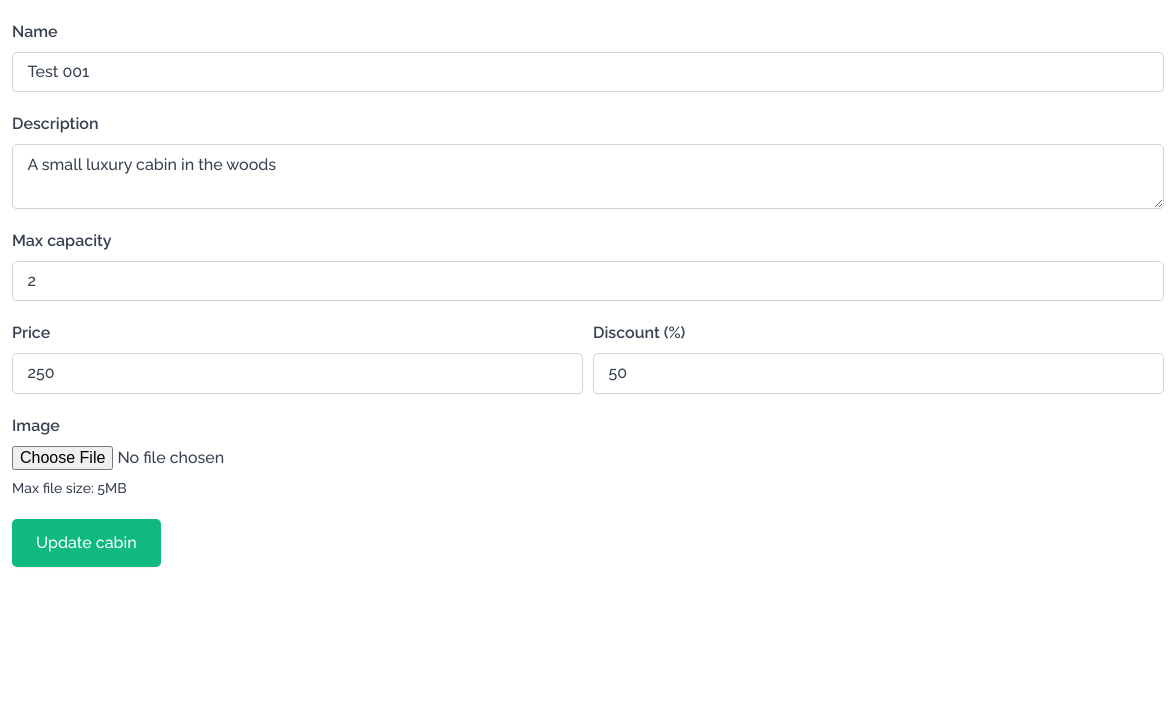
Test case: UpdateCabinForm › should show an error message if max capacity value is less than 1
This screenshot has width=1176, height=720.
Clear the number field labelled "Max capacity" at (588, 281), box [12, 261, 1164, 301]
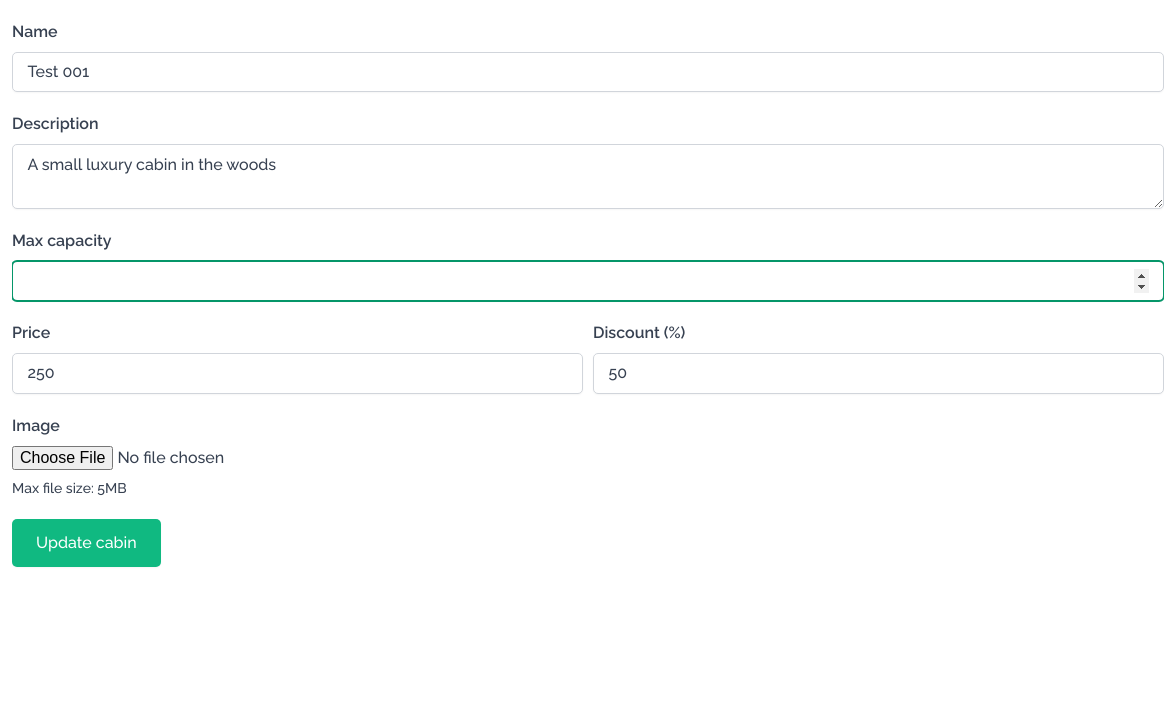
Click the button "Update cabin".
click(86, 542)  # box [12, 518, 161, 566]
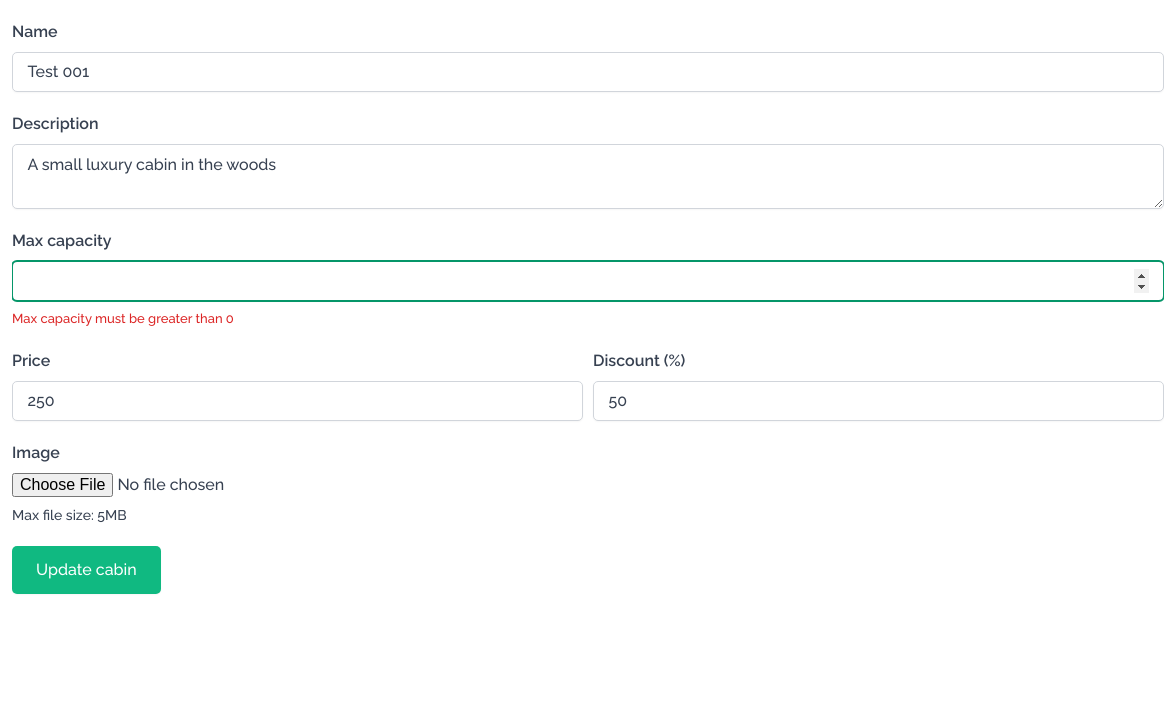
expect the text "Max capacity must be greater than 0" is shown: met, box [12, 311, 234, 326]
